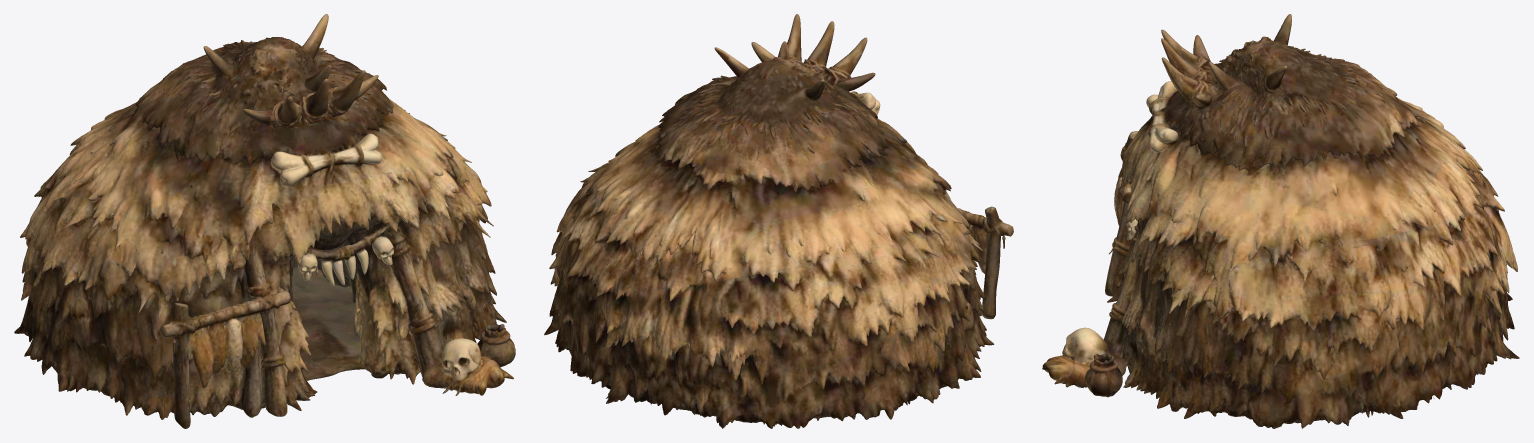
File: building10.glb
3 views of the same model, side by side, from view 1: azimuth 30°, elevation 25°; view 2: azimuth 150°, elevation 25°; view 3: azimuth 270°, elevation 25° (orthographic). The views are drawn at different scales.
Bounding box in the file's own units: 1.9 × 1.28 × 1.89.
Materials: 1 (1 with a texture image).
